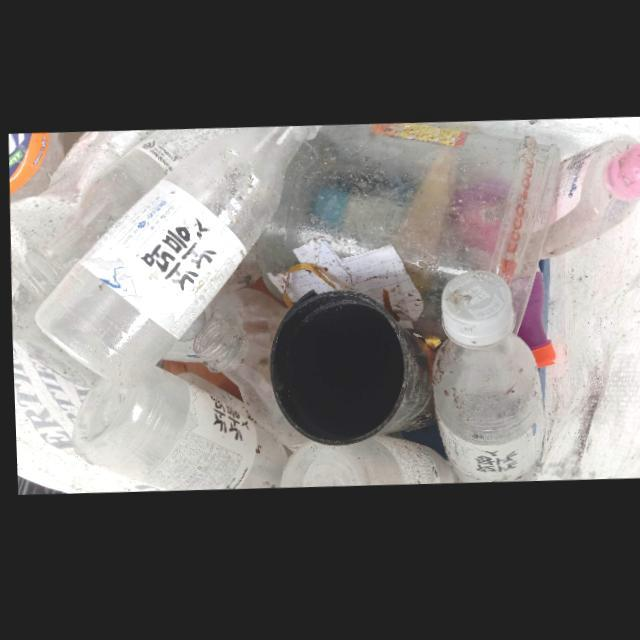plastic_bottle: (32, 129, 323, 390), (9, 130, 246, 300), (68, 369, 283, 493), (429, 275, 540, 488), (190, 322, 306, 455), (536, 145, 640, 265)
plastic_container: (260, 127, 560, 344), (274, 439, 459, 491)
